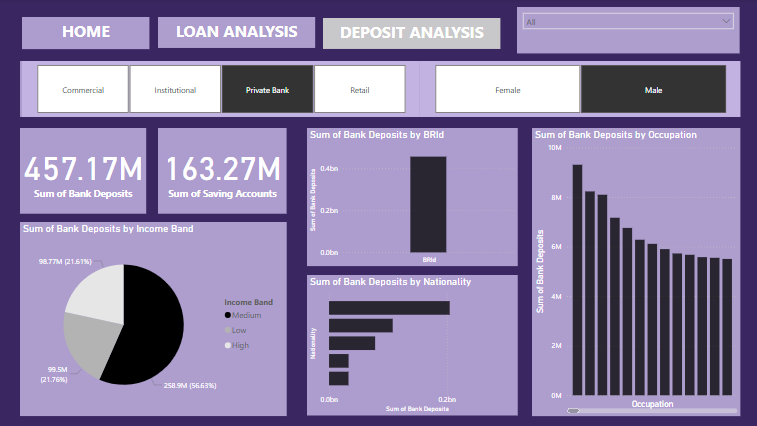

This screenshot's page, from the dashboard's own definition file:
{"tool":"powerbi","page":{"name":"Deposit analysis","canvas":[1280,720],"ordinal":2},"visuals":[{"type":"textbox","box":[42,30,214,54],"z":0},{"type":"textbox","box":[270,30,264,52],"z":1000},{"type":"textbox","box":[548,32,298,52],"z":2000},{"type":"actionButton","box":[38,30,214,52],"z":3000},{"type":"textbox","box":[38,104,1210,94],"z":4000},{"type":"card","fields":{"Values":["Sum(Banking_Clients.Bank Deposits)"]},"box":[38,216,212,144],"z":5000},{"type":"card","fields":{"Values":["Sum(Banking_Clients.Saving Accounts)"]},"box":[270,216,216,144],"z":6000},{"type":"pieChart","fields":{"Category":["Banking_Clients.Income Band"],"Y":["Sum(Banking_Clients.Bank Deposits)"]},"box":[38,374,448,326],"z":7000},{"type":"columnChart","fields":{"Category":["Banking_Clients.BRId"],"Y":["Sum(Banking_Clients.Bank Deposits)"]},"box":[520,216,354,232],"z":8000},{"type":"barChart","fields":{"Category":["Banking_Clients.Nationality"],"Y":["Sum(Banking_Clients.Bank Deposits)"]},"box":[520,464,354,236],"z":9000},{"type":"columnChart","fields":{"Category":["Banking_Clients.Occupation"],"Y":["Sum(Banking_Clients.Bank Deposits)"]},"box":[898,216,350,484],"z":10000},{"type":"slicer","fields":{"Values":["Banking_Clients.BRId"]},"box":[42,104,668,94],"z":11000},{"type":"slicer","fields":{"Values":["Banking_Clients.GenderId"]},"box":[710,104,538,94],"z":12000},{"type":"actionButton","box":[292,30,242,54],"z":13000},{"type":"slicer","fields":{"Values":["Banking_Clients.IAId"]},"box":[874,14,374,78],"z":14000}]}

Visuals, with their boxes in screenshot pixels (x1, y1, x2, y2), scaled from the page's 1280x720 canvas onto the 757x426 screenshot:
textbox: <box>25,18,151,50</box>
textbox: <box>160,18,316,49</box>
textbox: <box>324,19,500,50</box>
actionButton: <box>22,18,149,49</box>
textbox: <box>22,62,738,117</box>
card - Sum(Banking_Clients.Bank Deposits): <box>22,128,148,213</box>
card - Sum(Banking_Clients.Saving Accounts): <box>160,128,287,213</box>
pieChart - Banking_Clients.Income Band x Sum(Banking_Clients.Bank Deposits): <box>22,221,287,414</box>
columnChart - Banking_Clients.BRId x Sum(Banking_Clients.Bank Deposits): <box>308,128,517,265</box>
barChart - Banking_Clients.Nationality x Sum(Banking_Clients.Bank Deposits): <box>308,275,517,414</box>
columnChart - Banking_Clients.Occupation x Sum(Banking_Clients.Bank Deposits): <box>531,128,738,414</box>
slicer - Banking_Clients.BRId: <box>25,62,420,117</box>
slicer - Banking_Clients.GenderId: <box>420,62,738,117</box>
actionButton: <box>173,18,316,50</box>
slicer - Banking_Clients.IAId: <box>517,8,738,54</box>
